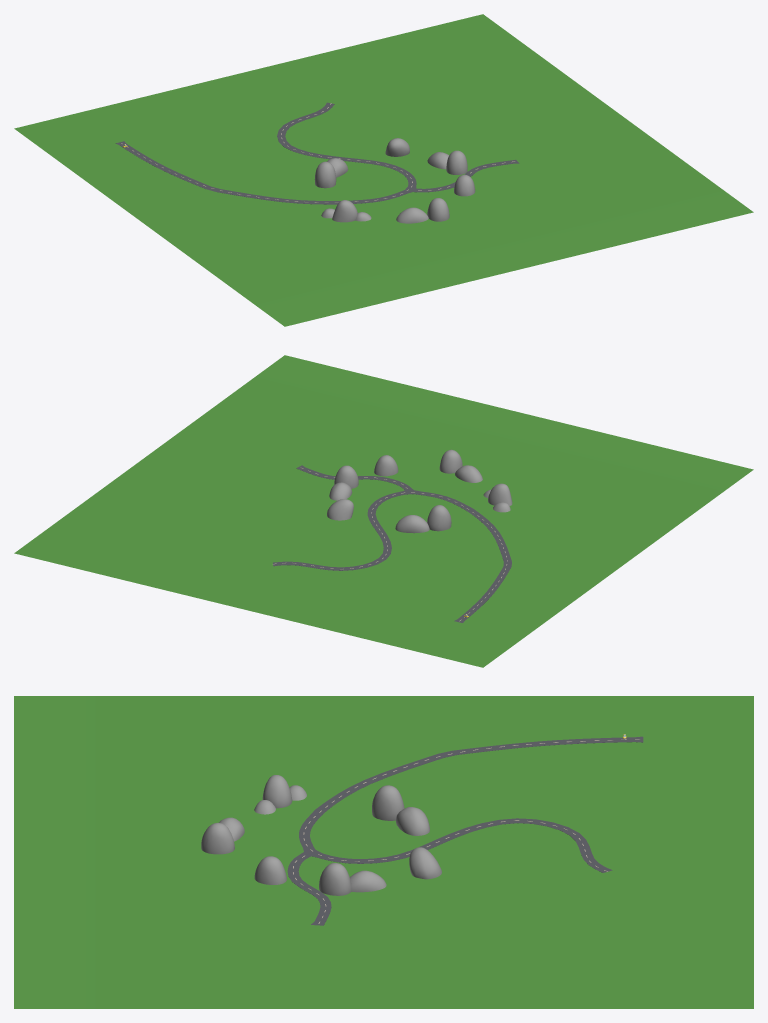
3 views of the same model, one above another, from view 1: azimuth 30°, elevation 25°; view 2: azimuth 150°, elevation 25°; view 3: azimuth 270°, elevation 25° (orthographic). The views are drawn at different scales.
Parts seen in each view (by area): view 1: ground, Firma_Halle.002; view 2: ground, Firma_Halle.002, SmallRock6_3; view 3: ground, Firma_Halle.002, SmallRock6_3, SmallRock6_3.003, SmallRock6_3.002, SmallRock5_8.003, SmallRock5_8, SmallRock6_3.001, SmallRock5_8.004, SmallRock5_8.002.
Part boxes in pixels (<box>): ground: <box>14,14,753,326</box>; Firma_Halle.002: <box>115,102,519,204</box>; ground: <box>14,355,753,667</box>; Firma_Halle.002: <box>272,465,511,622</box>; SmallRock6_3: <box>427,505,451,531</box>; ground: <box>14,696,753,1008</box>; Firma_Halle.002: <box>287,736,643,925</box>; SmallRock6_3: <box>372,785,404,820</box>; SmallRock6_3.003: <box>319,863,351,895</box>; SmallRock6_3.002: <box>201,823,234,854</box>; SmallRock5_8.003: <box>409,847,441,879</box>; SmallRock5_8: <box>396,807,429,835</box>; SmallRock6_3.001: <box>254,856,286,884</box>; SmallRock5_8.004: <box>262,775,292,808</box>; SmallRock5_8.002: <box>350,870,386,892</box>.
Size of the model in its own units: 175 by 9.86 by 175.
Materials: 2 (2 with a texture image).
